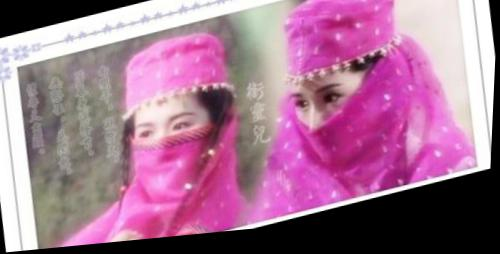OK: (131, 102, 223, 205)
WRONG: (287, 73, 385, 174)
